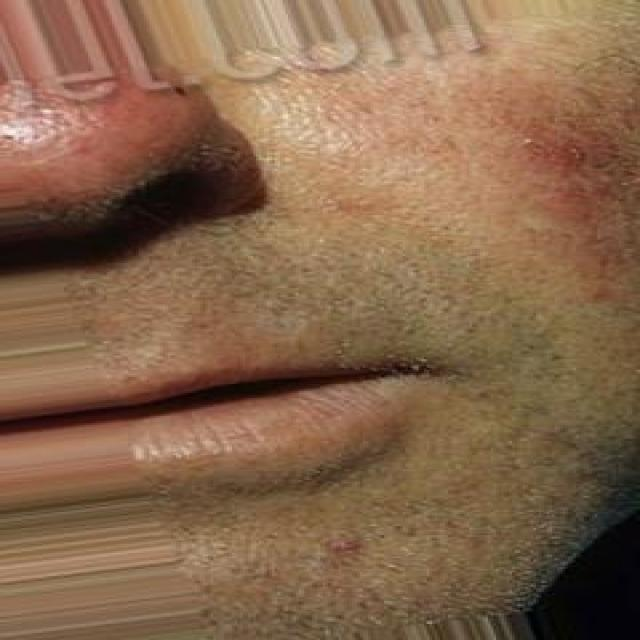Rosacea: (458, 92, 621, 297), (35, 89, 198, 193)
